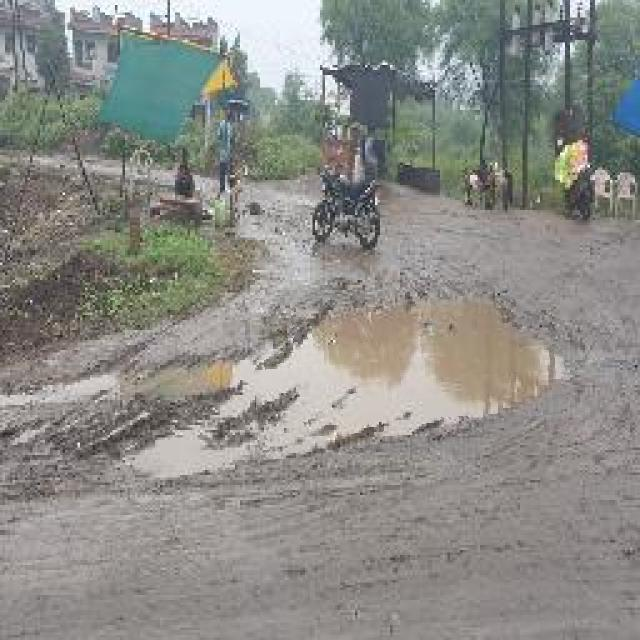puddle: (252, 284, 568, 456)
